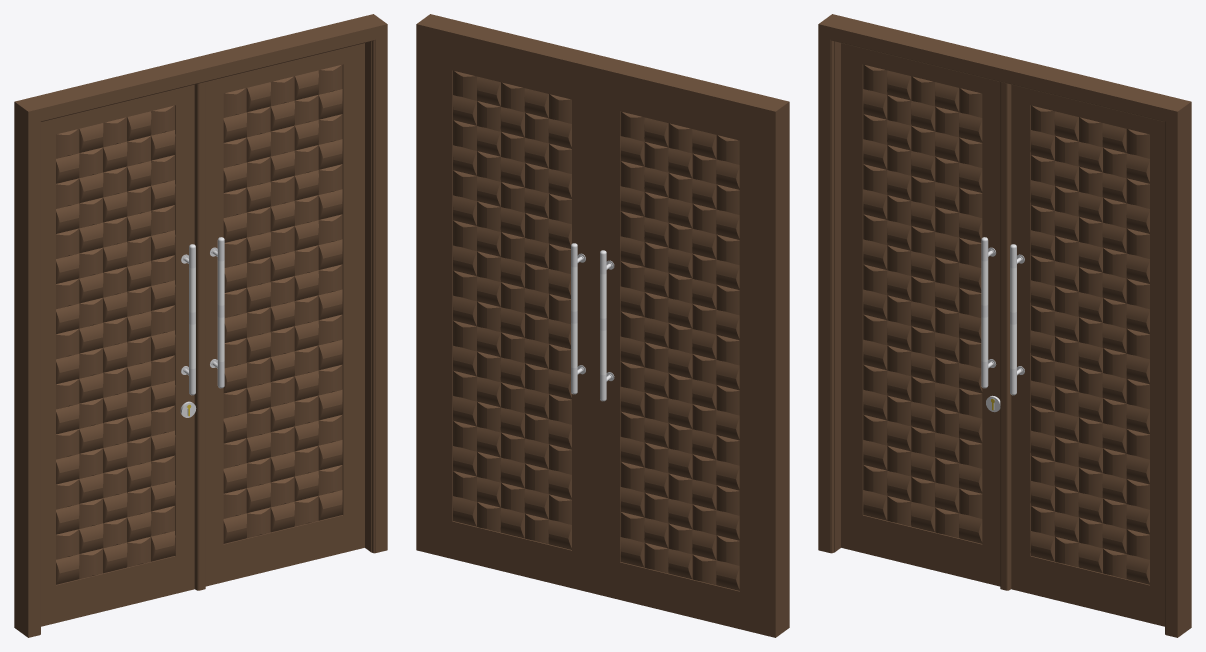
The model's file is door.glb.
3 renders of one model, left to right at view 1: azimuth 30°, elevation 25°; view 2: azimuth 150°, elevation 25°; view 3: azimuth 330°, elevation 25°, orthographic.
Parts seen in each view (by area): view 1: DoorR, DoorL, Frame; view 2: DoorL, DoorR, Frame; view 3: DoorL, DoorR, Frame.
Part boxes in pixels (box(x1,y1,x2,y2)): DoorR: box(202, 39, 375, 589); DoorL: box(40, 80, 207, 634); Frame: box(14, 14, 387, 637); DoorL: box(596, 80, 763, 634); DoorR: box(428, 39, 595, 593); Frame: box(416, 14, 789, 637); DoorL: box(830, 39, 1003, 589); DoorR: box(998, 80, 1165, 634); Frame: box(818, 14, 1191, 637).
Bounding box in the file's own units: 1.5 × 2.1 × 0.17.
